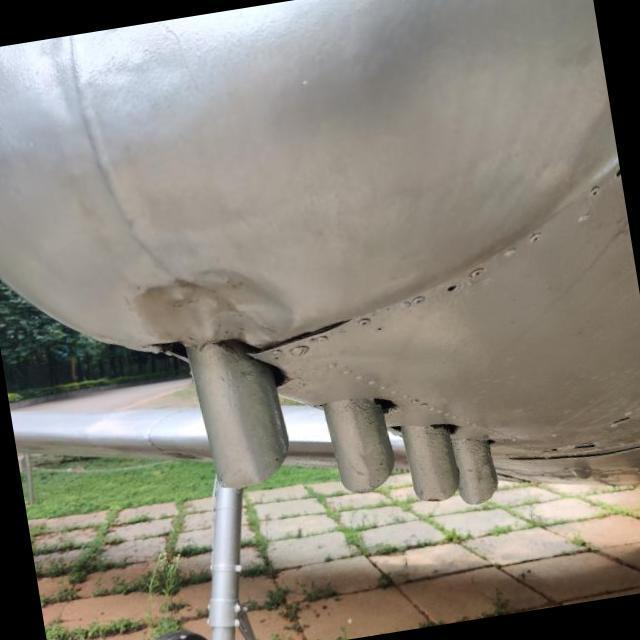Dent: (108, 234, 322, 390)
